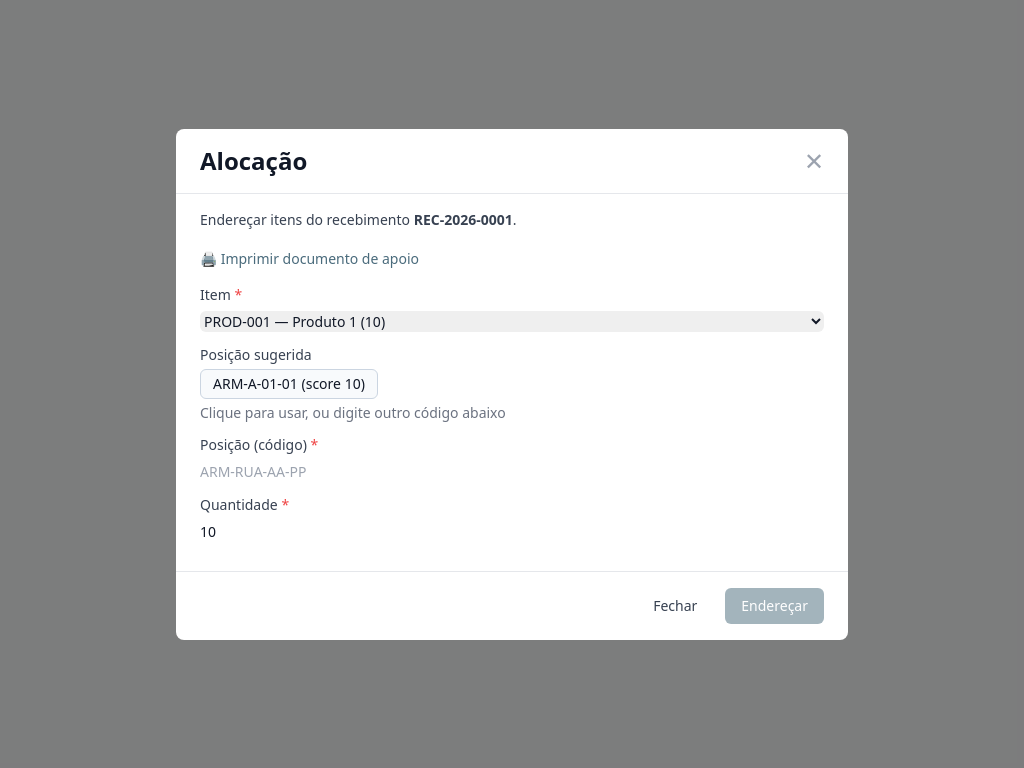
Test case: PutawayActionModal › código de posição inválido mostra erro e não deixa confirmar
Type "CODIGO-INEXISTENTE" into the field with placeholder "ARM-RUA-AA-PP".
click(512, 472); type("CODIGO-INEXISTENTE")  # box [200, 462, 824, 482]
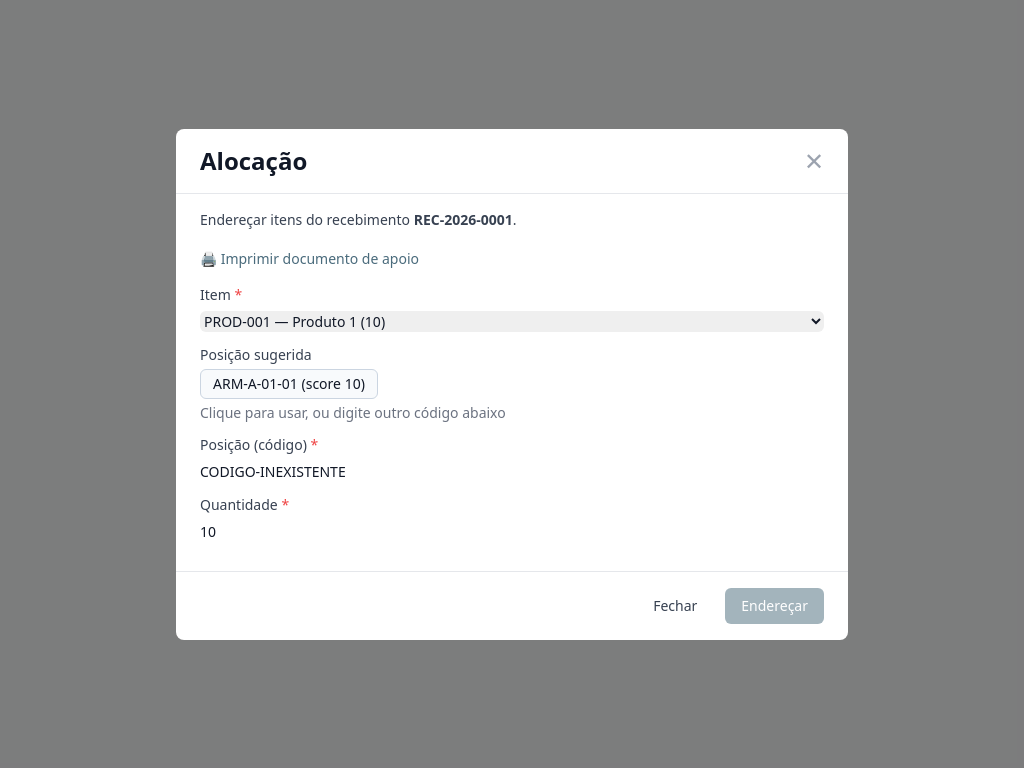
Leave the field with placeholder "ARM-RUA-AA-PP", box [200, 462, 824, 482]
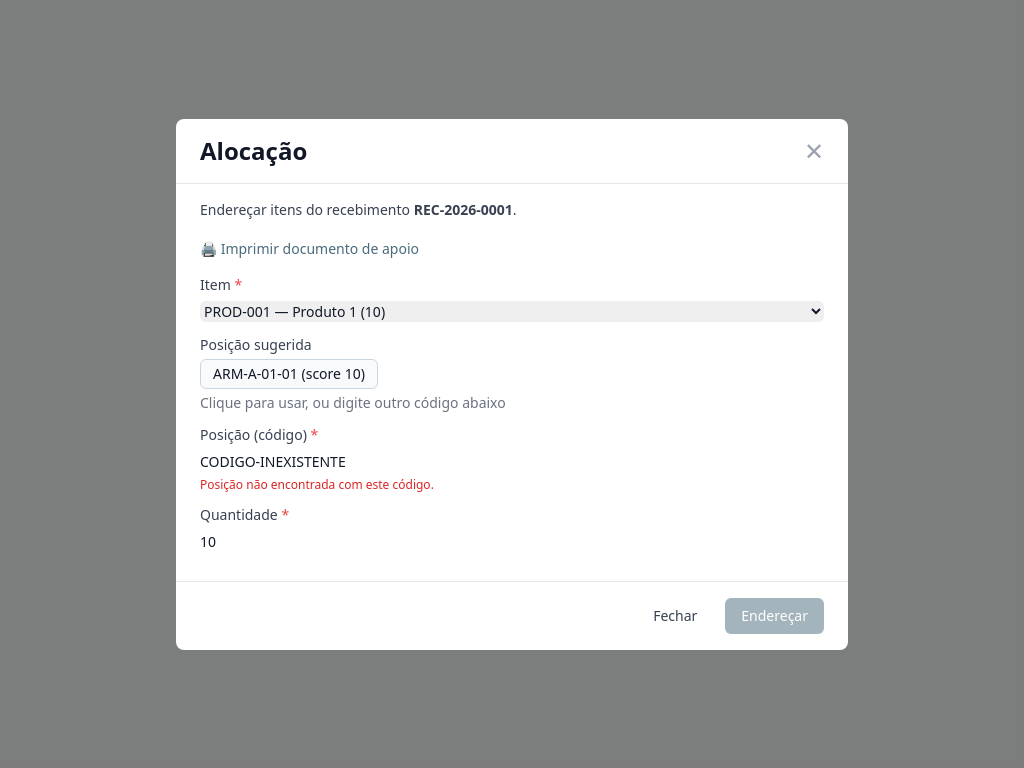
expect the button "Endereçar" is disabled: met, box [725, 598, 824, 634]
expect the text "Posição não encontrada" is shown: met, box [200, 476, 434, 492]
